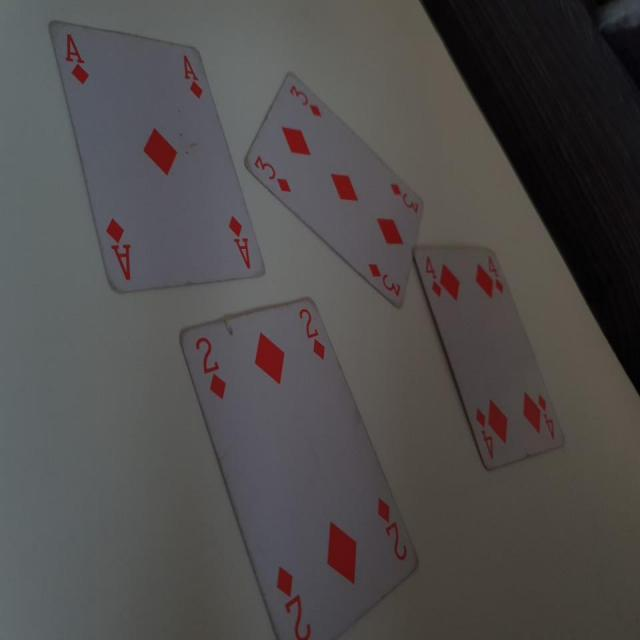2 Diamonds: (178, 289, 420, 638)
3 Diamonds: (241, 70, 428, 307)
4 Diamonds: (413, 243, 568, 480)
A Diamonds: (41, 12, 264, 304)
